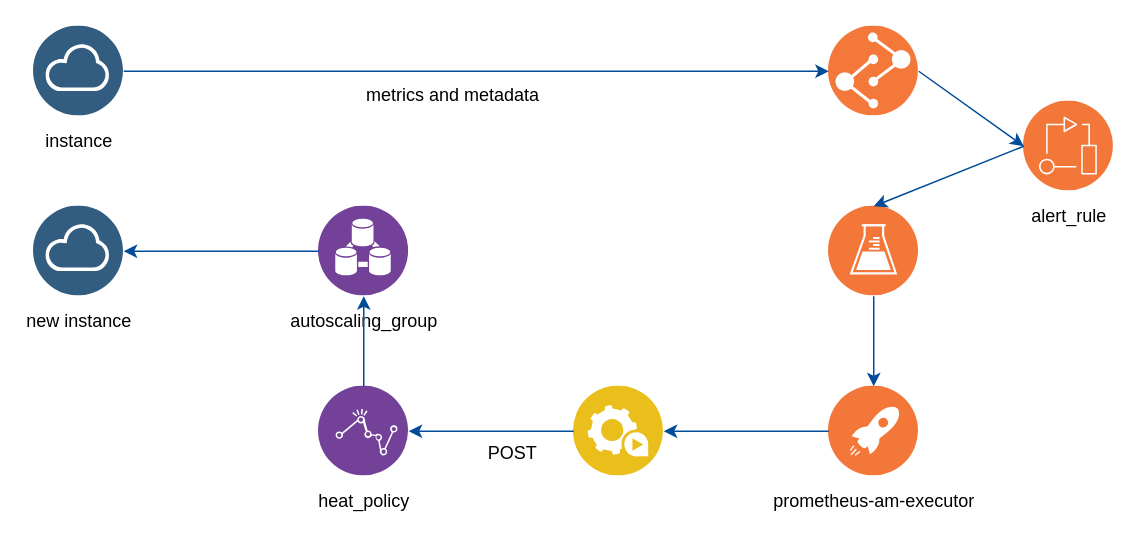
Some shapes in this 1139 by 537 pixel diagram are drawn without their labels. Each missing label, with the centre of its shape:
"AlertManager" goes at (873,251).
"autoscaling.sh" goes at (618,431).
"Prometheus" goes at (873,71).
